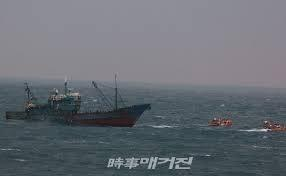Ship: (5, 70, 159, 135)
